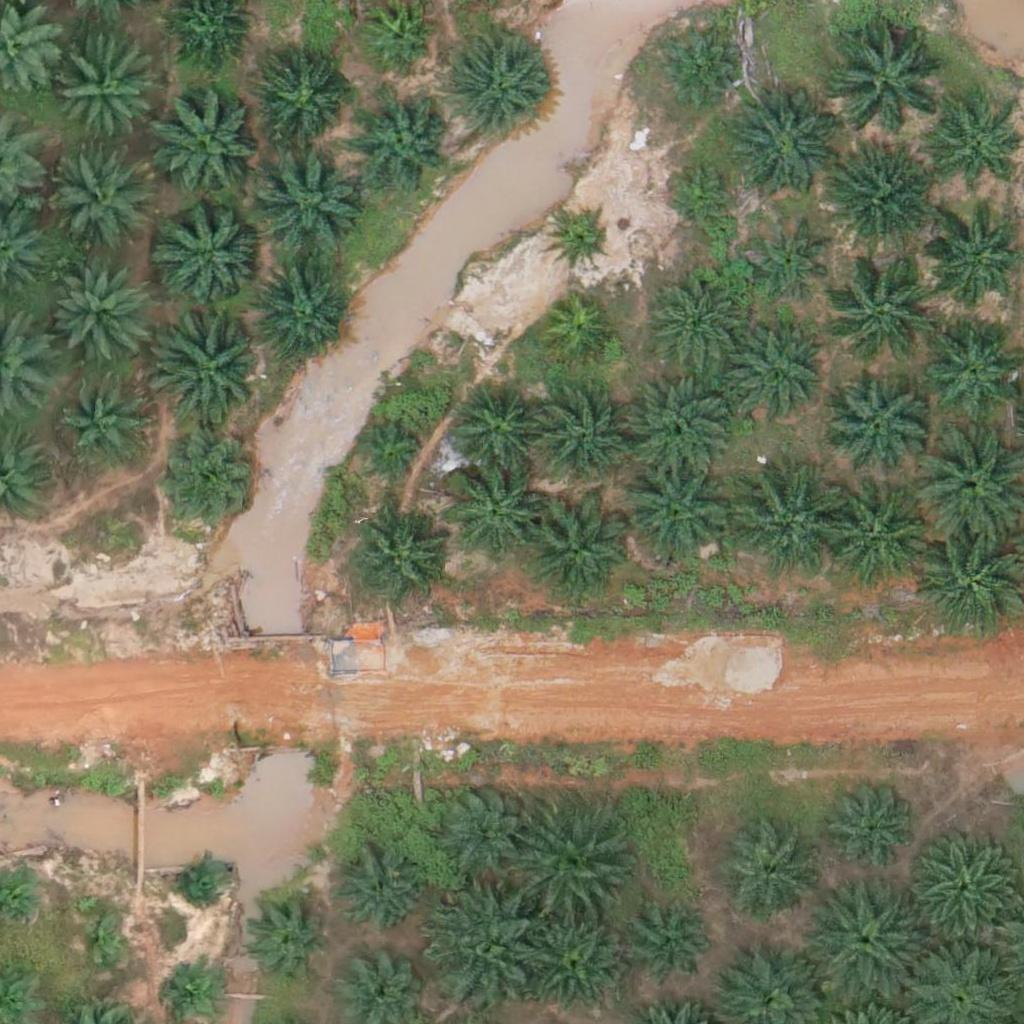Kelapa_Sawit: (903, 834, 1016, 947), (830, 18, 943, 131), (724, 91, 837, 204), (622, 369, 735, 482), (619, 457, 732, 570), (521, 496, 634, 609), (250, 142, 363, 255), (151, 86, 264, 199), (155, 197, 268, 310), (829, 249, 941, 363), (727, 466, 839, 580), (815, 883, 927, 996), (517, 812, 629, 925), (427, 891, 539, 1004), (817, 485, 929, 598), (820, 146, 932, 259), (154, 309, 266, 422), (821, 777, 921, 878), (523, 910, 623, 1011), (429, 777, 529, 878), (922, 212, 1022, 313), (824, 374, 924, 475), (724, 325, 824, 426), (532, 391, 632, 492), (447, 382, 547, 483), (249, 263, 349, 364), (349, 508, 449, 609), (157, 436, 257, 537), (54, 43, 154, 144), (49, 155, 149, 256), (45, 263, 145, 364), (720, 827, 820, 927), (922, 316, 1022, 416), (449, 40, 549, 140), (647, 273, 747, 373), (442, 462, 542, 562), (355, 93, 455, 193), (747, 219, 835, 307), (652, 27, 740, 115), (260, 60, 348, 148), (335, 848, 422, 937), (629, 901, 716, 989), (245, 895, 332, 983), (934, 108, 1021, 196), (63, 381, 150, 469), (664, 158, 739, 233), (540, 296, 615, 371), (355, 420, 430, 495), (549, 209, 612, 272), (167, 964, 217, 1015), (174, 854, 224, 904), (77, 917, 127, 967)
